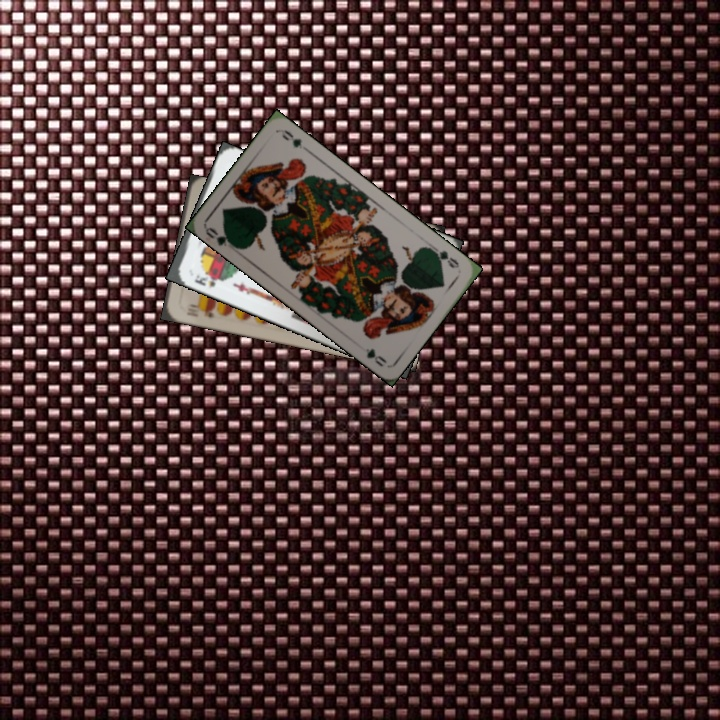E10: (182, 304, 217, 320)
GO: (201, 223, 239, 251), (427, 242, 462, 271)
SK: (190, 269, 225, 290)
